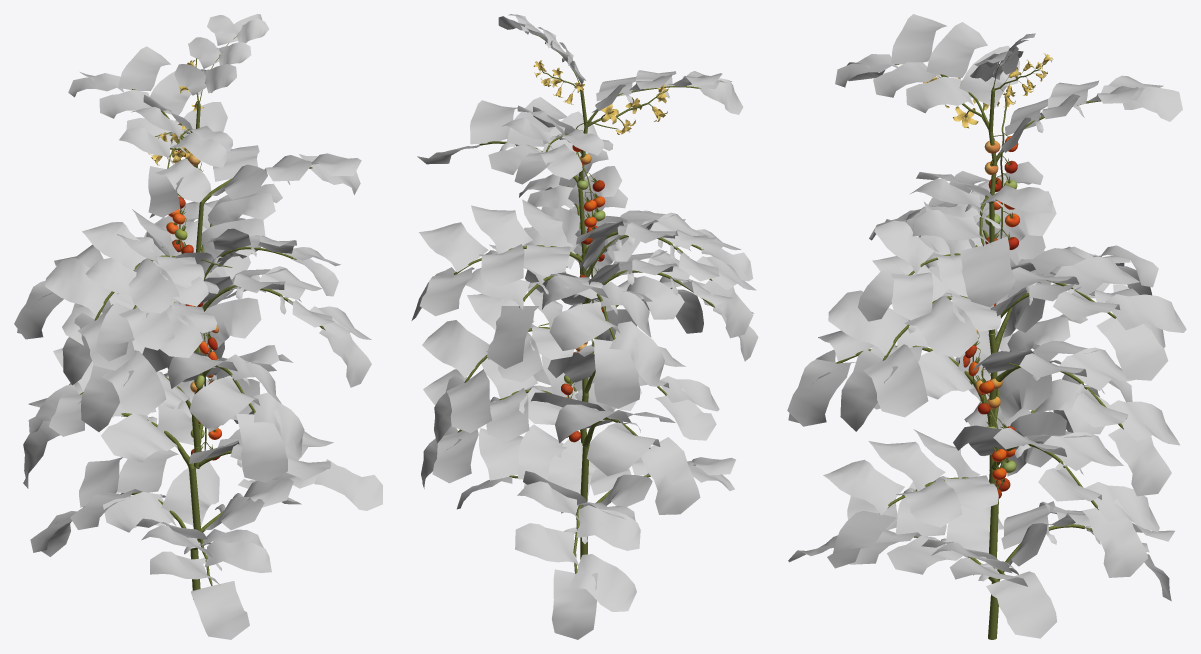
Rendered from tomato_plant_repo.dae.
3 renders of one model, left to right at view 1: azimuth 30°, elevation 25°; view 2: azimuth 150°, elevation 25°; view 3: azimuth 270°, elevation 25°, orthographic. The views are drawn at different scales.
Visible parts, largest first — view 1: Leaf2, Leaf1, Branch1; view 2: Leaf2, Leaf1, Branch1, Blossom1; view 3: Leaf2, Leaf1, Branch1, Blossom1.
Part boxes in pixels (<box>): Leaf2: <box>14,14,382,639</box>; Leaf1: <box>101,64,286,547</box>; Branch1: <box>80,36,325,599</box>; Leaf2: <box>411,14,758,639</box>; Leaf1: <box>488,42,675,520</box>; Branch1: <box>454,34,714,573</box>; Blossom1: <box>533,60,668,134</box>; Leaf2: <box>787,14,1186,638</box>; Leaf1: <box>887,45,1098,574</box>; Branch1: <box>835,56,1123,639</box>; Blossom1: <box>923,53,1053,128</box>.
Size of the model in its own units: 0.8066 by 0.8057 by 1.39.
